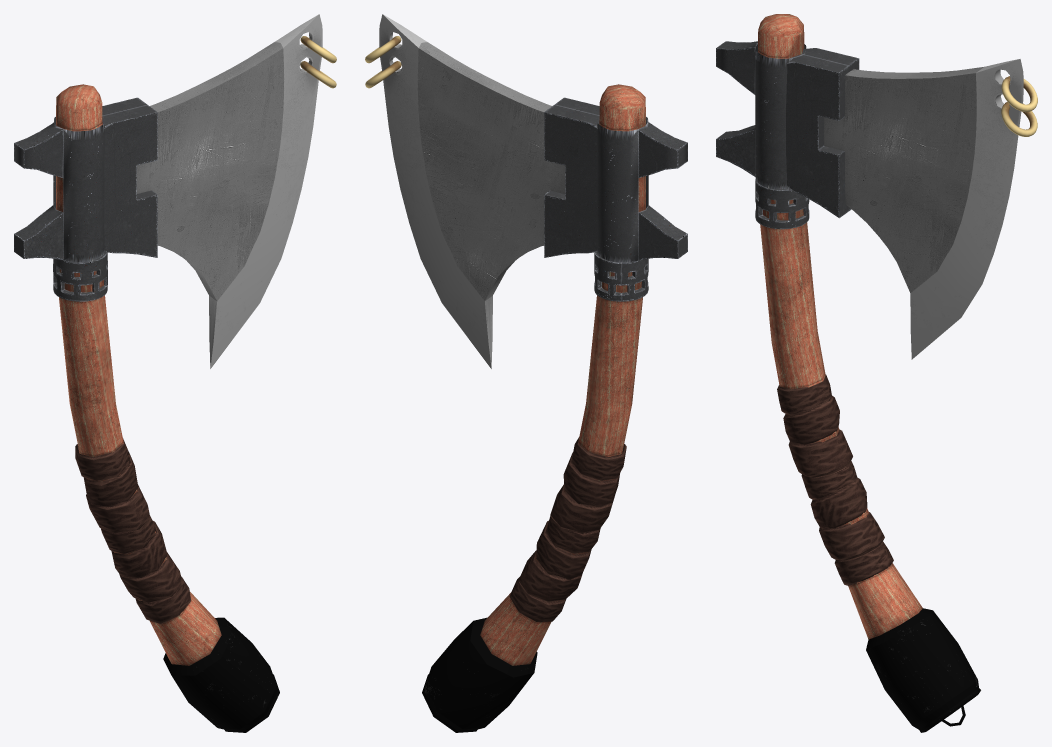
3 views of the same model, side by side, from view 1: azimuth 30°, elevation 25°; view 2: azimuth 150°, elevation 25°; view 3: azimuth 330°, elevation 25° (orthographic).
Visible parts, largest first — view 1: axe_low; view 2: axe_low; view 3: axe_low.
Part boxes in pixels (bbox=[...]): axe_low: bbox=[14, 14, 336, 732]; axe_low: bbox=[365, 14, 687, 732]; axe_low: bbox=[716, 14, 1037, 732].
Size of the model in its own units: 0.285 by 0.6016 by 0.0683.
Materials: 1 (1 with a texture image).
